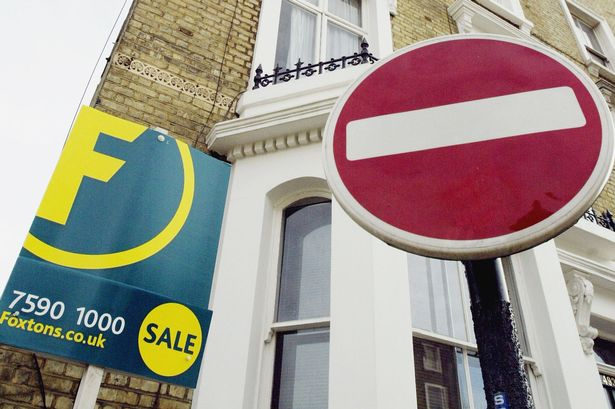No_entry: (321, 33, 615, 258)
